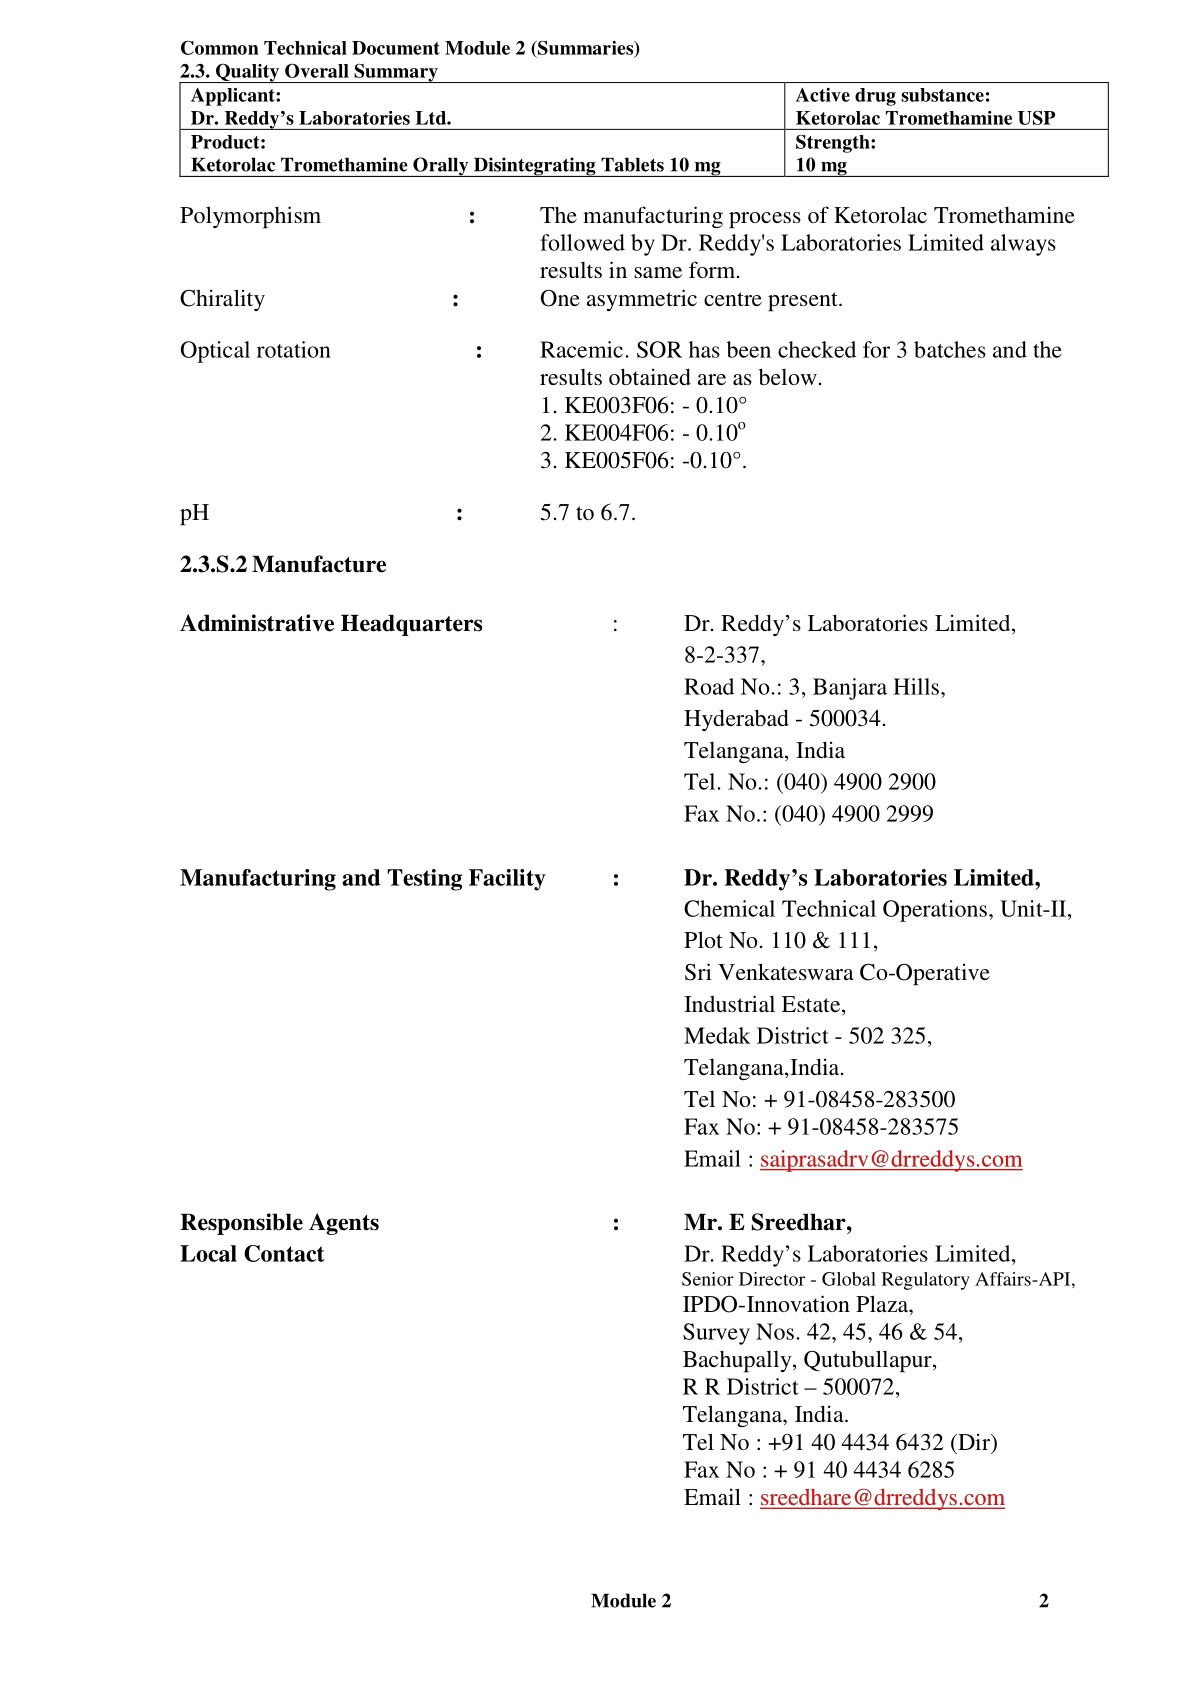full_lined: (179, 81, 1109, 178)
nolines: (173, 609, 1084, 1514), (173, 198, 1083, 530)
